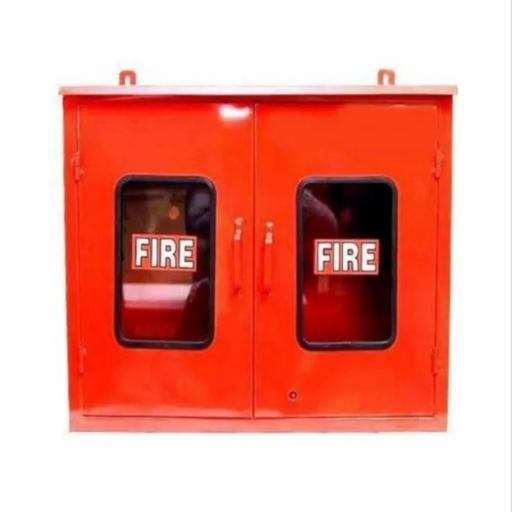fire_hose: (54, 73, 447, 437)
